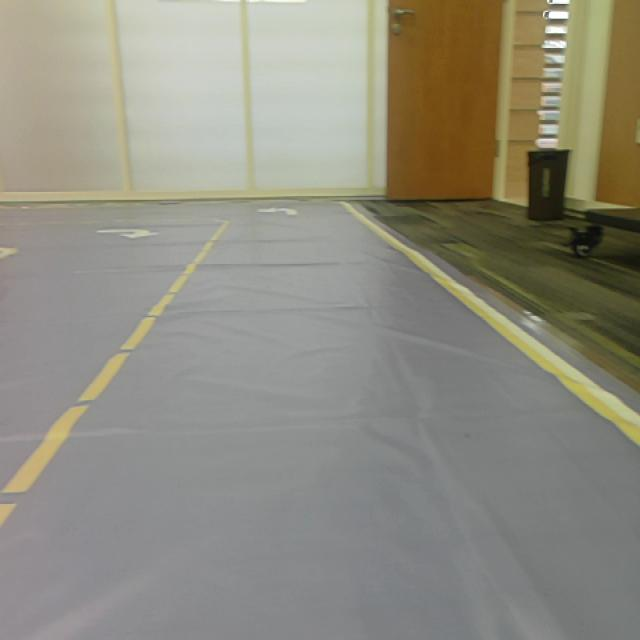left_lane: (0, 222, 225, 529)
right_lane: (343, 202, 640, 447)
